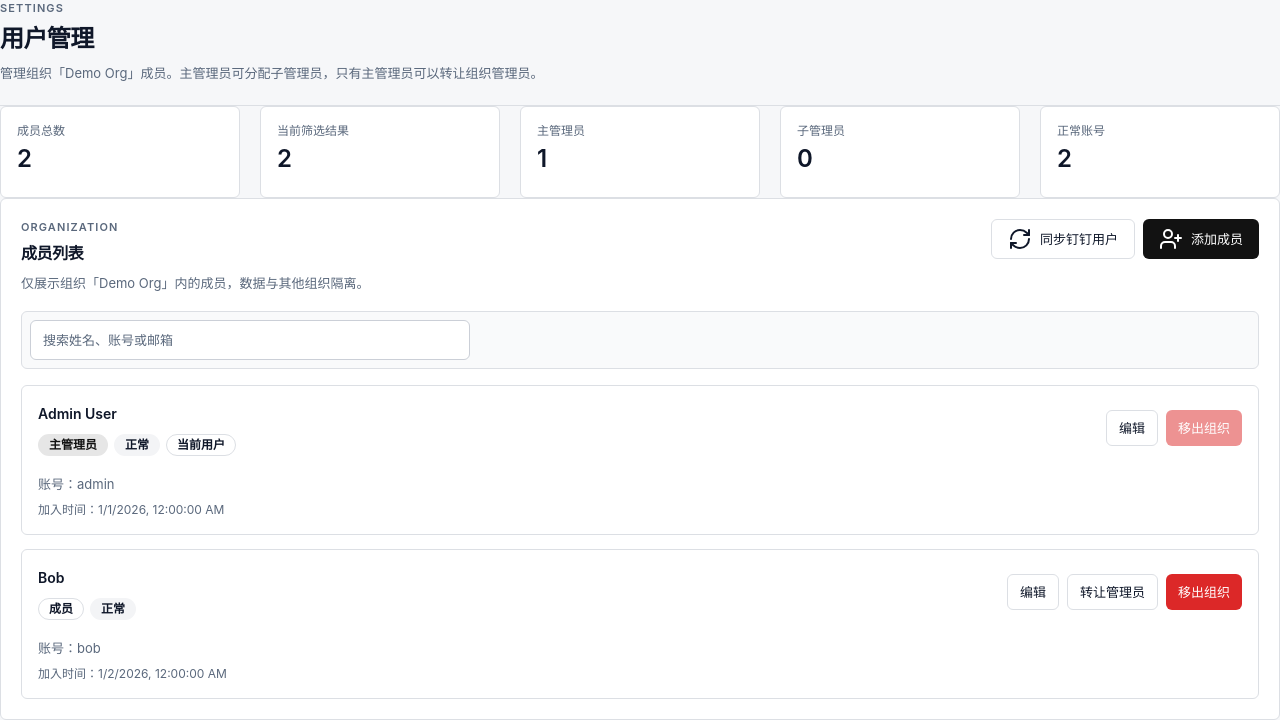
OrganizationUsersPage › syncs DingTalk users and refreshes the member list
This screenshot has width=1280, height=720.
Click the button "同步钉钉用户".
click(1063, 238)  # box 991,218 -> 1135,258
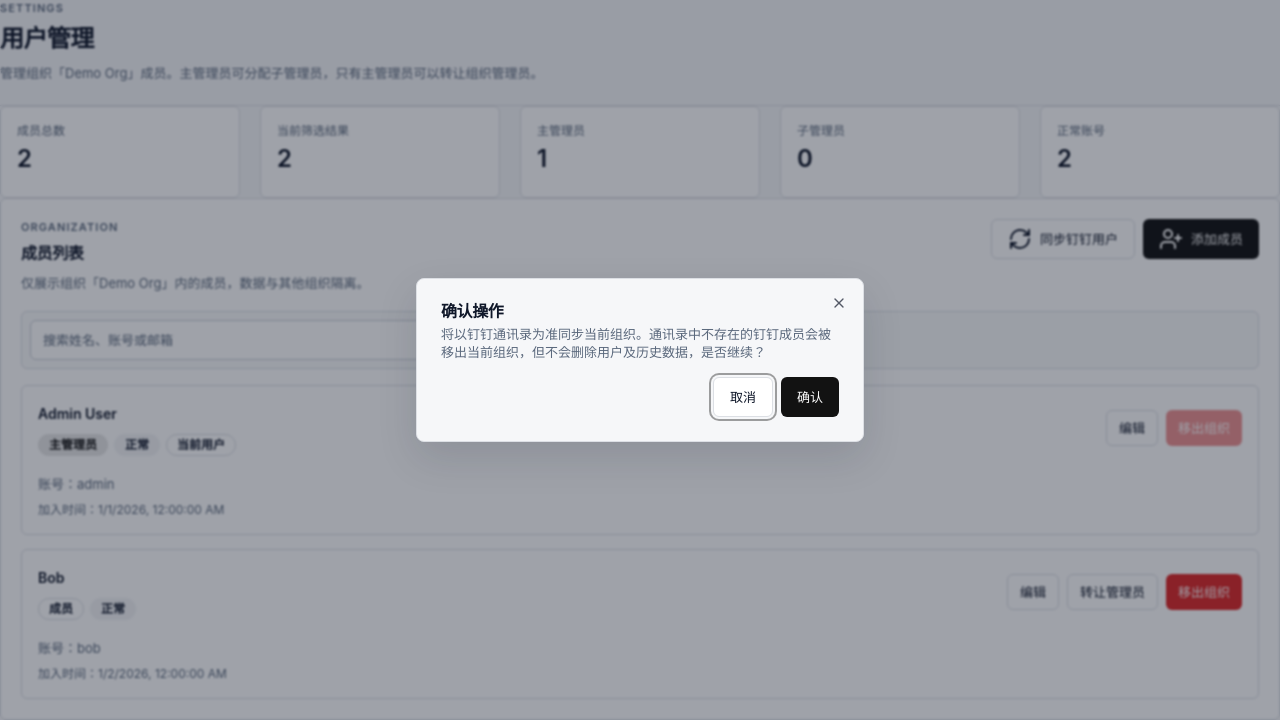
Expected: the button "确认" is shown
Expected: the text "通讯录中不存在的钉钉成员会被移出当前组织" is shown, 441,326 -> 831,360
Click the button "确认".
click(810, 397)  # box 781,377 -> 839,417
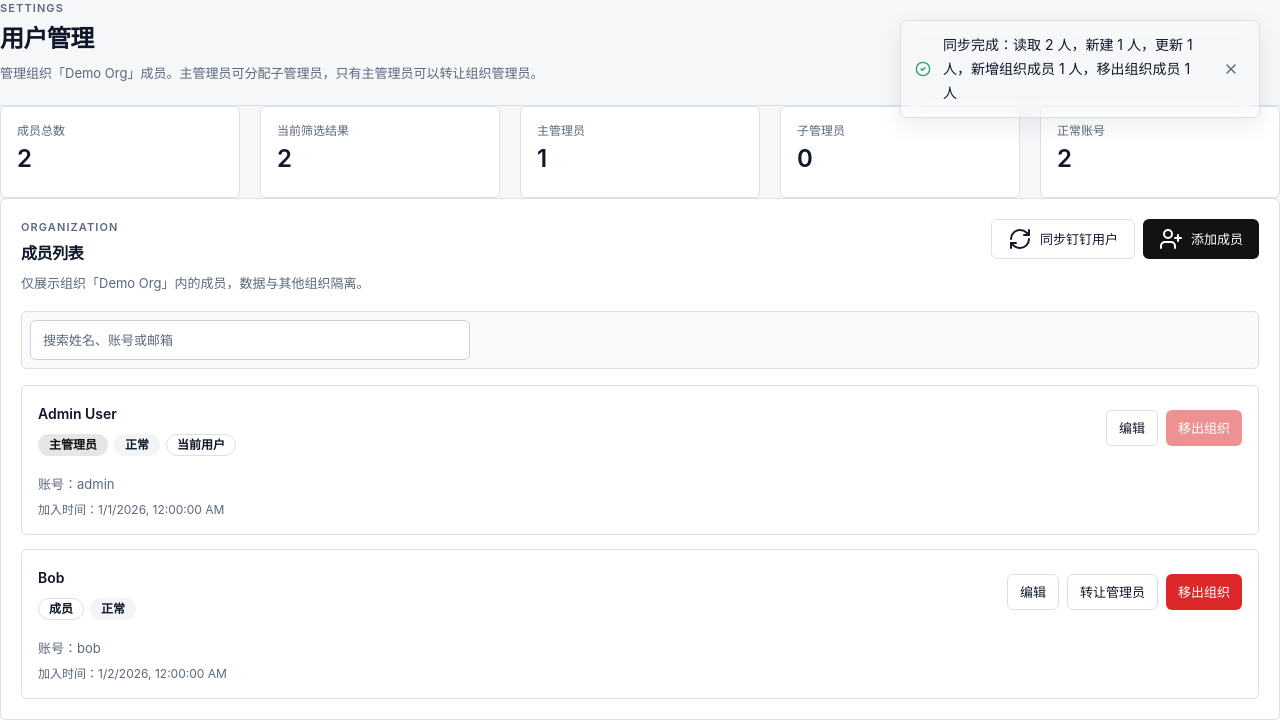
Expected: the text "同步完成" is shown, 943,36 -> 1193,101
Expected: the text "移出组织成员 1 人" is shown, 943,36 -> 1193,101
